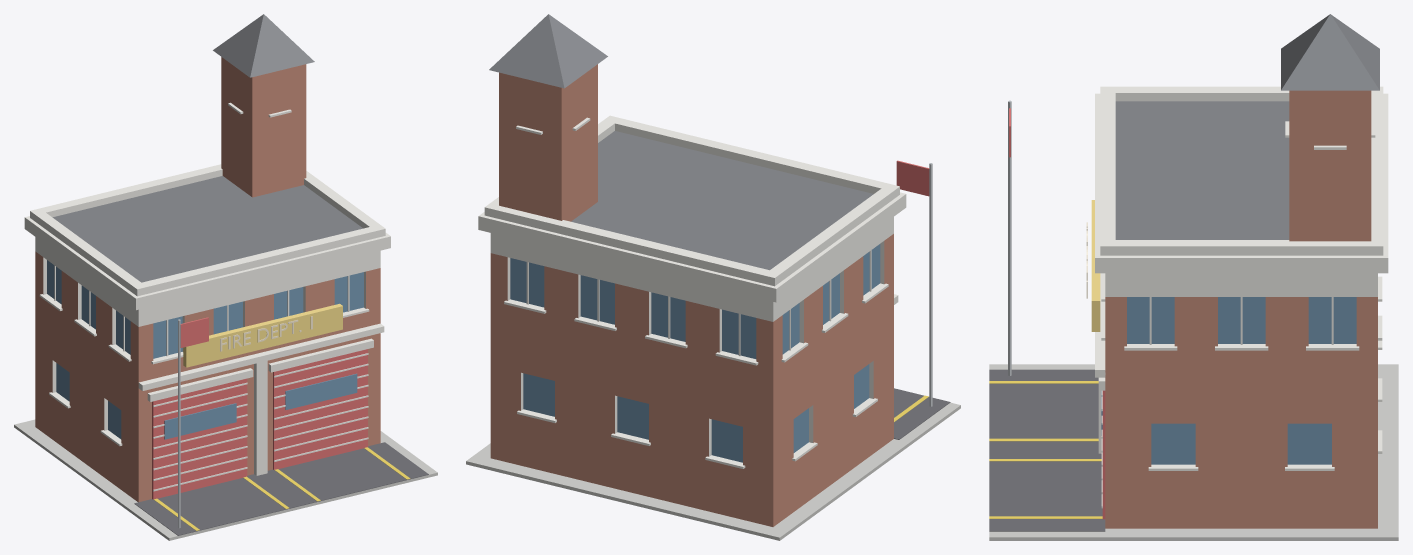
Rendered from fire_station.glb.
3 views of the same model, side by side, from view 1: azimuth 30°, elevation 25°; view 2: azimuth 150°, elevation 25°; view 3: azimuth 270°, elevation 25° (orthographic). The views are drawn at different scales.
Parts seen in each view (by area): view 1: fire_station; view 2: fire_station; view 3: fire_station.
Part boxes in pixels (x1=…): fire_station: x1=14, y1=14, x2=437, y2=540; fire_station: x1=466, y1=14, x2=960, y2=540; fire_station: x1=989, y1=14, x2=1398, y2=540.
Bounding box in the file's own units: 12 × 16.12 × 12.
